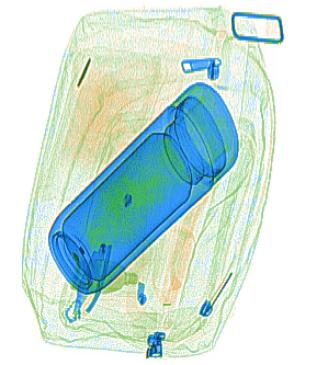knife: (70, 240, 114, 318)
